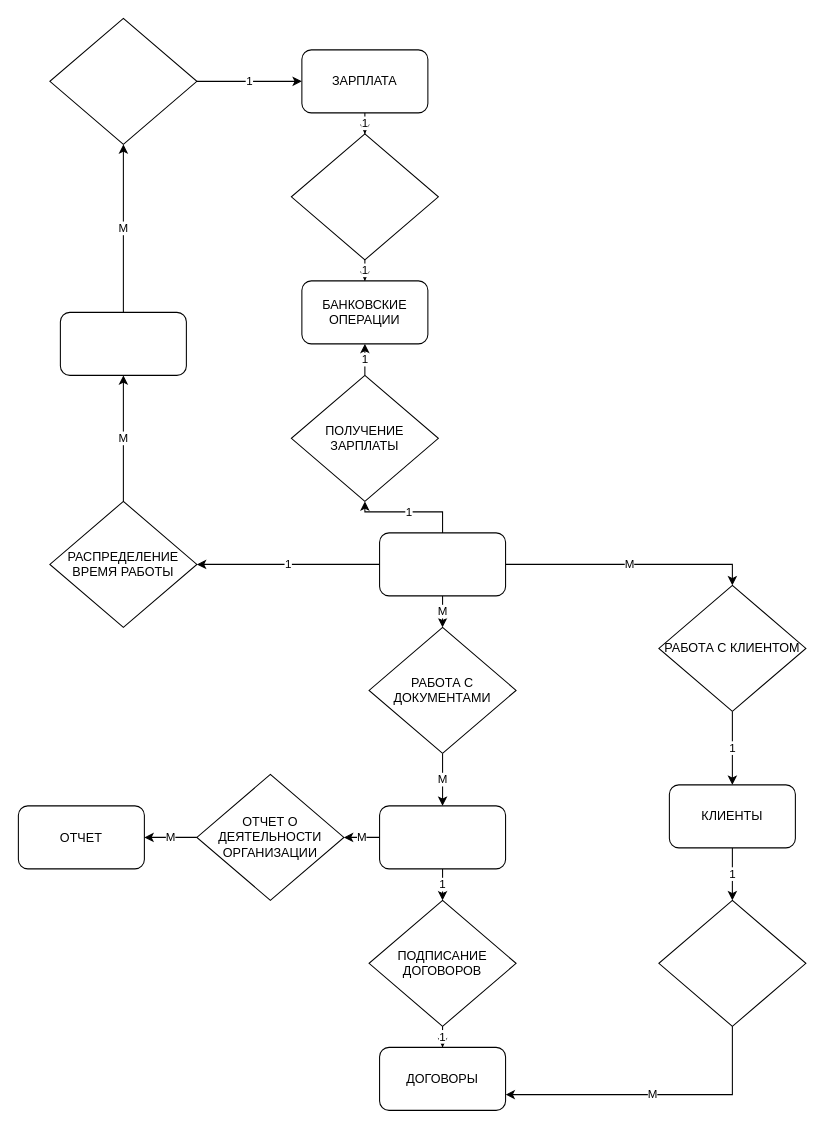
Some shapes in this 824 by 1129 pixel diagram are drawn without their labels. Here are the shapes that lost their labels. From the top down, the centre of each, then its label:
At [123,80]: "ВЫЧИСЛЕНИЕ ЗАРПЛАТЫ ПО ОТРАБОТАННЫМ ЧАСАМ".
At [364,196]: "ВЫДАЧА ЗАРПЛАТЫ".
At [122,343]: "РАБОЧЕЕ ВРЕМЯ".
At [442,564]: "СОТРУДНИК".
At [442,837]: "ЦЕННЫЕ ДОКУМЕНТЫ".
At [732,962]: "ЗАКЛЮЧЕНИЕ ДОГОВОРА С КЛИЕНТОМ".
